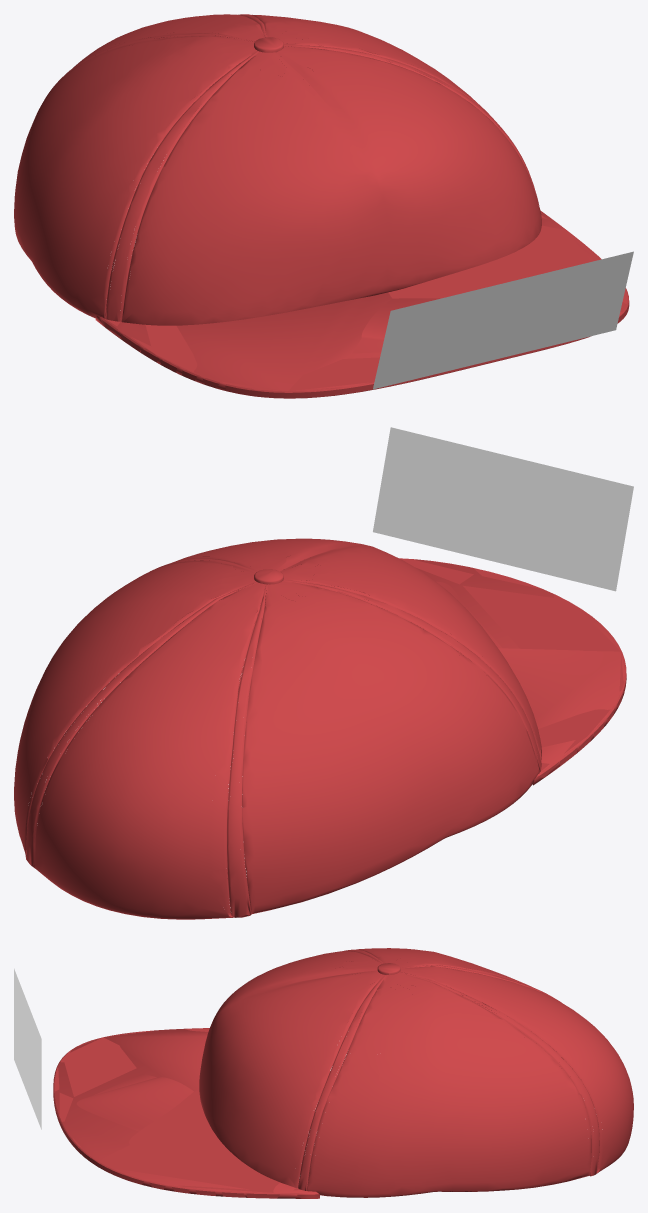
File: cap.glb
The picture shows the model from 3 angles, top to bottom: view 1: azimuth 30°, elevation 25°; view 2: azimuth 150°, elevation 25°; view 3: azimuth 270°, elevation 25°; orthographic projection. The views are drawn at different scales.
Parts seen in each view (by area): view 1: cap_crown, cap_label; view 2: cap_crown, cap_label; view 3: cap_crown, cap_label.
Boxes of the visible parts, <box> form: cap_crown: <box>14,14,629,398</box>; cap_label: <box>373,251,633,389</box>; cap_crown: <box>14,538,626,919</box>; cap_label: <box>373,427,633,591</box>; cap_crown: <box>53,948,633,1198</box>; cap_label: <box>14,968,41,1129</box>.
Bounding box in the file's own units: 0.6234 × 0.2988 × 0.9734.
